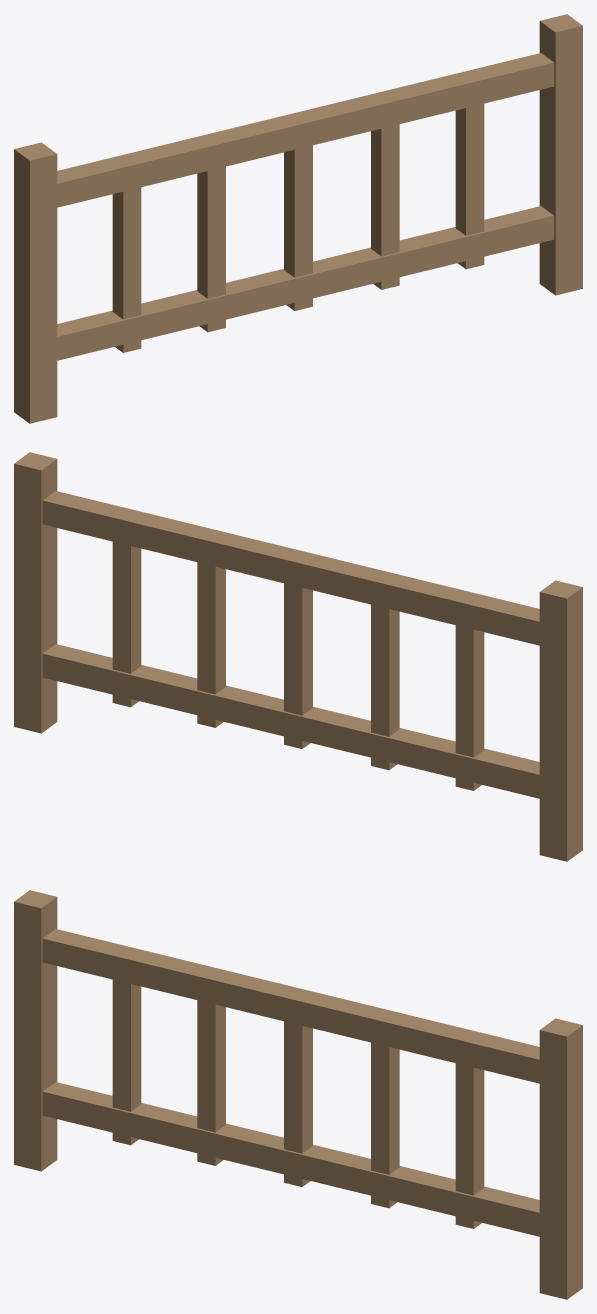
The picture shows the model from 3 angles, top to bottom: view 1: azimuth 30°, elevation 25°; view 2: azimuth 150°, elevation 25°; view 3: azimuth 330°, elevation 25°; orthographic projection.
Parts seen in each view (by area): view 1: Rail.Top, Rail.Bottom, Post.L, Post.R, Picket.1, Picket.5, Picket.4, Picket.3, Picket.2; view 2: Rail.Top, Rail.Bottom, Post.L, Post.R, Picket.1, Picket.5, Picket.3, Picket.2, Picket.4; view 3: Rail.Top, Rail.Bottom, Post.R, Post.L, Picket.1, Picket.5, Picket.3, Picket.4, Picket.2.
Part boxes in pixels (<box>): Rail.Top: <box>57,53,554,207</box>; Rail.Bottom: <box>57,206,554,360</box>; Post.L: <box>14,142,57,423</box>; Post.R: <box>539,14,582,295</box>; Picket.1: <box>112,155,141,352</box>; Picket.5: <box>455,71,484,269</box>; Picket.4: <box>371,91,399,289</box>; Picket.3: <box>284,112,312,310</box>; Picket.2: <box>197,134,225,332</box>; Rail.Top: <box>42,491,539,645</box>; Rail.Bottom: <box>42,644,539,798</box>; Post.L: <box>539,580,582,861</box>; Post.R: <box>14,452,57,733</box>; Picket.1: <box>455,592,484,790</box>; Picket.5: <box>112,509,141,707</box>; Picket.3: <box>284,550,312,748</box>; Picket.2: <box>371,572,399,770</box>; Picket.4: <box>197,529,225,727</box>; Rail.Top: <box>42,929,539,1083</box>; Rail.Bottom: <box>42,1082,539,1236</box>; Post.R: <box>539,1018,582,1299</box>; Post.L: <box>14,890,57,1171</box>; Picket.1: <box>112,947,141,1145</box>; Picket.5: <box>455,1030,484,1228</box>; Picket.3: <box>284,988,312,1186</box>; Picket.4: <box>371,1010,399,1208</box>; Picket.2: <box>197,967,225,1165</box>.
Size of the model in its own units: 2.42 by 1.1 by 0.12.
